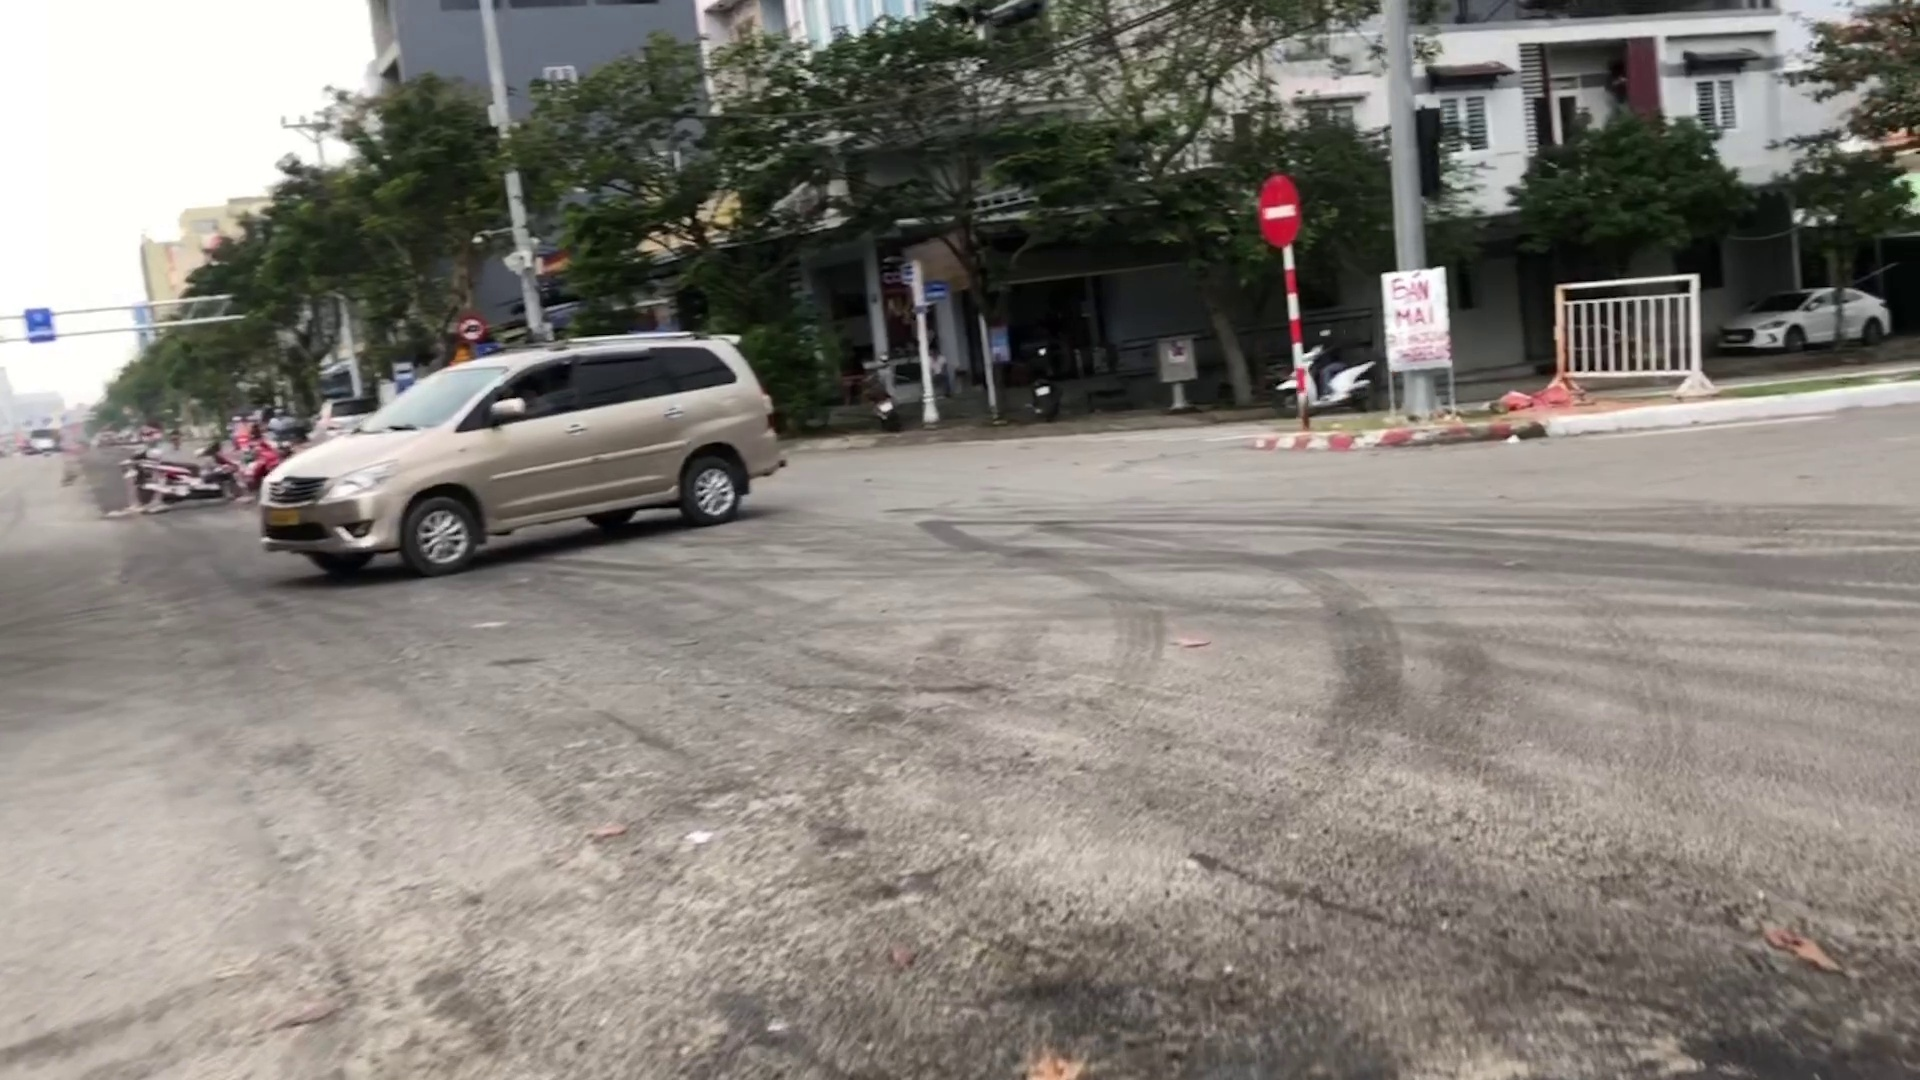Cam di nguoc chieu: (1255, 169, 1304, 248)
